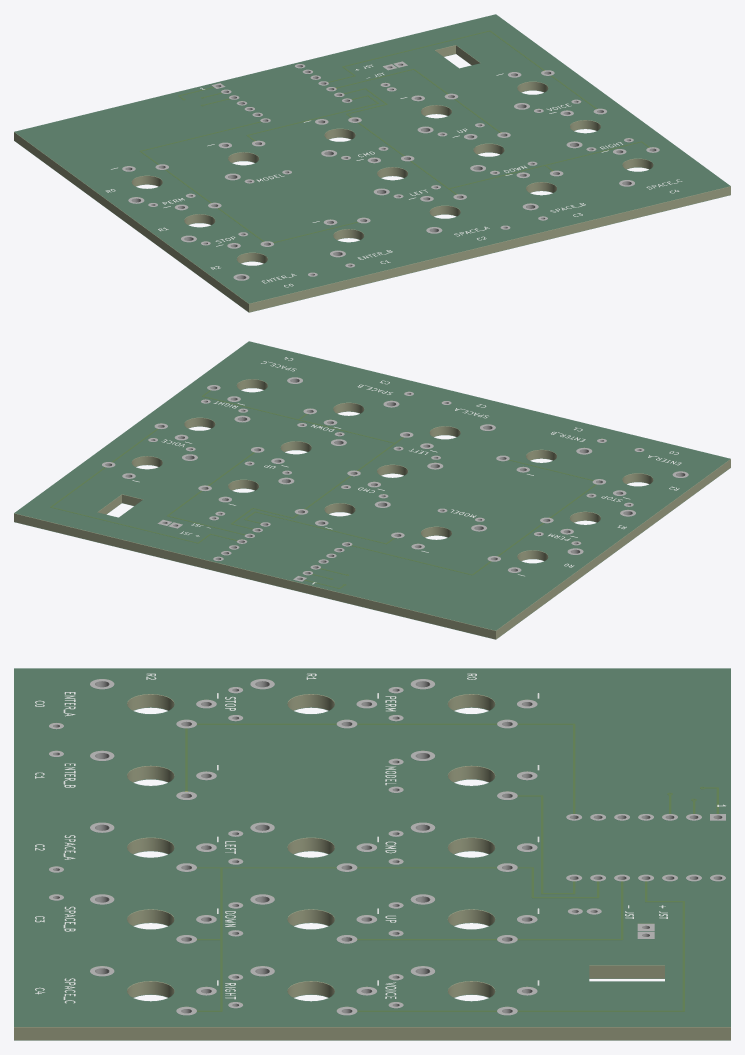
Rendered from claudepad-pcb.glb.
3 renders of one model, top to bottom at view 1: azimuth 30°, elevation 25°; view 2: azimuth 150°, elevation 25°; view 3: azimuth 270°, elevation 25°, orthographic. The views are drawn at different scales.
Visible parts, largest first — view 1: =>[0:1:1:9], =>[0:1:1:7], =>[0:1:1:3], =>[0:1:1:5], =>[0:1:1:8], =>[0:1:1:2]; view 2: =>[0:1:1:9], =>[0:1:1:7], =>[0:1:1:3], =>[0:1:1:5], =>[0:1:1:8], =>[0:1:1:2]; view 3: =>[0:1:1:9], =>[0:1:1:7], =>[0:1:1:3], =>[0:1:1:5], =>[0:1:1:2], =>[0:1:1:8].
Boxes of the visible parts, x1=… form: =>[0:1:1:9]: x1=14, y1=15, x2=730, y2=312; =>[0:1:1:7]: x1=14, y1=14, x2=730, y2=303; =>[0:1:1:3]: x1=122, y1=61, x2=659, y2=280; =>[0:1:1:5]: x1=105, y1=64, x2=682, y2=287; =>[0:1:1:8]: x1=14, y1=54, x2=730, y2=312; =>[0:1:1:2]: x1=140, y1=31, x2=649, y2=242; =>[0:1:1:9]: x1=14, y1=342, x2=730, y2=639; =>[0:1:1:7]: x1=14, y1=341, x2=730, y2=630; =>[0:1:1:3]: x1=102, y1=377, x2=688, y2=581; =>[0:1:1:5]: x1=132, y1=357, x2=681, y2=584; =>[0:1:1:8]: x1=14, y1=388, x2=730, y2=639; =>[0:1:1:2]: x1=51, y1=391, x2=594, y2=588; =>[0:1:1:9]: x1=14, y1=669, x2=730, y2=1040; =>[0:1:1:7]: x1=14, y1=668, x2=730, y2=1026; =>[0:1:1:3]: x1=49, y1=679, x2=725, y2=1015; =>[0:1:1:5]: x1=35, y1=673, x2=725, y2=1003; =>[0:1:1:2]: x1=185, y1=724, x2=718, y2=1011; =>[0:1:1:8]: x1=14, y1=707, x2=730, y2=1040.
Bounding box in the file's own units: 0.09 × 0.00166 × 0.076.
